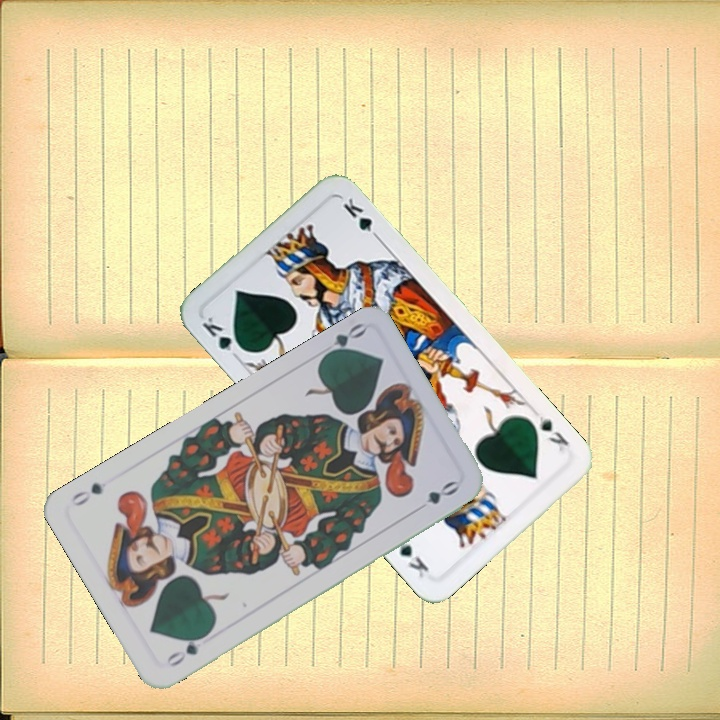GK: (197, 312, 248, 357), (534, 411, 571, 455)
GO: (317, 319, 368, 362), (161, 629, 212, 670)
